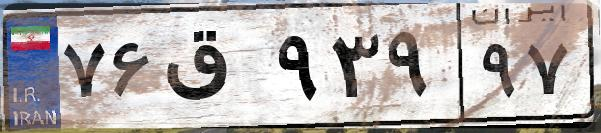3: (330, 28, 385, 110)
6: (110, 28, 158, 98)
7: (57, 26, 110, 100), (525, 38, 570, 115)
9: (270, 28, 330, 110), (385, 28, 445, 110), (475, 38, 525, 113)
ق: (158, 20, 270, 120)
